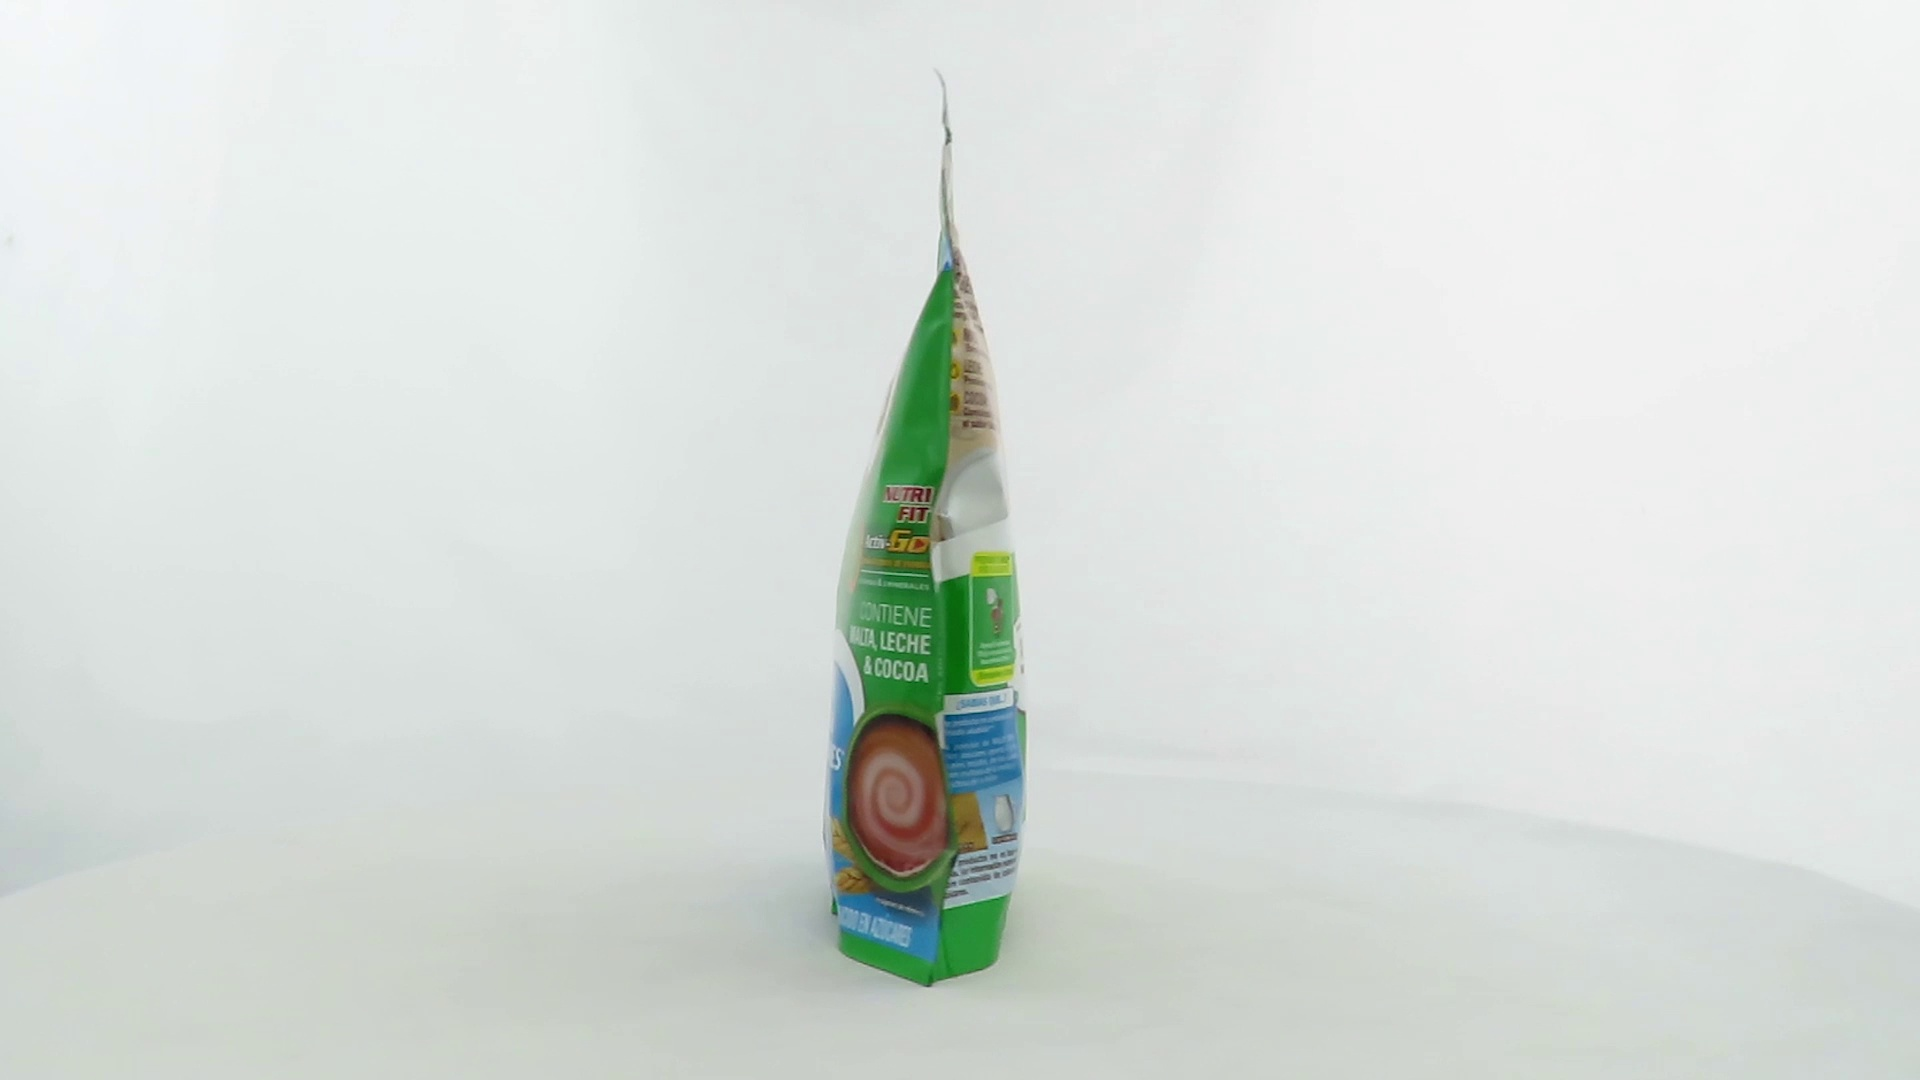COL0170205DYP20000: (818, 63, 1033, 994)
